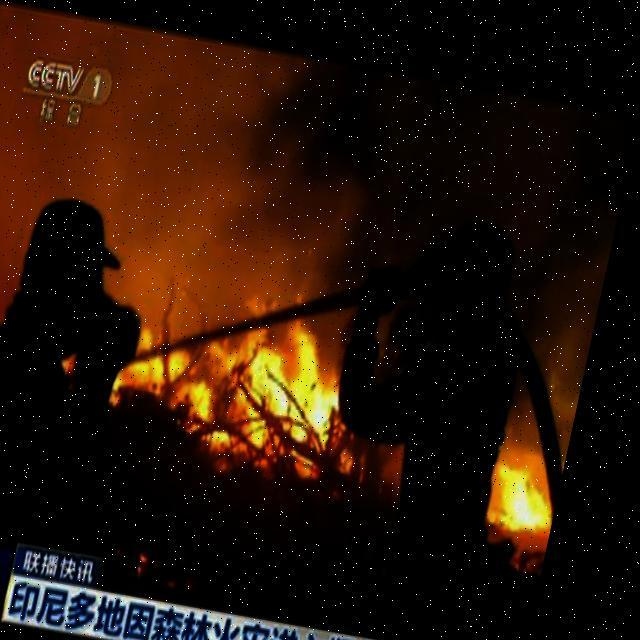Fire: (112, 280, 372, 487), (496, 434, 576, 526)
